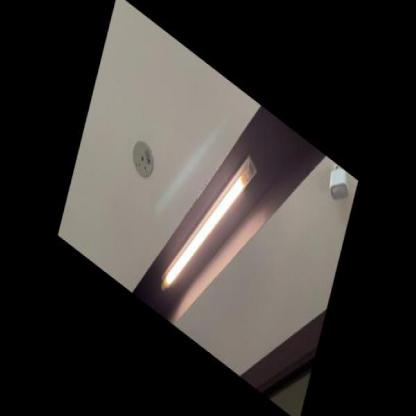light_on: (156, 110, 264, 339)
